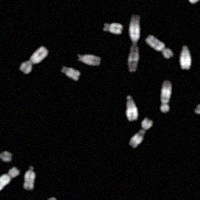chromosome: (20, 45, 48, 74), (128, 118, 153, 148), (145, 35, 172, 59), (128, 15, 139, 72), (0, 165, 20, 192), (160, 80, 171, 112), (125, 95, 137, 121), (61, 66, 80, 80), (180, 46, 191, 69), (77, 54, 100, 65), (24, 167, 35, 189), (104, 21, 122, 34), (167, 0, 199, 4), (0, 151, 11, 162), (47, 197, 82, 200), (195, 104, 200, 120)
